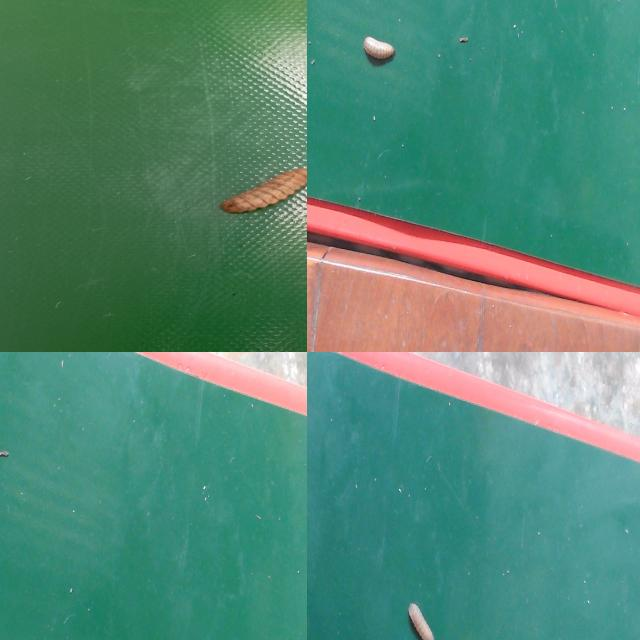Maggot: (218, 166, 307, 216), (361, 36, 397, 68), (407, 603, 437, 640)
